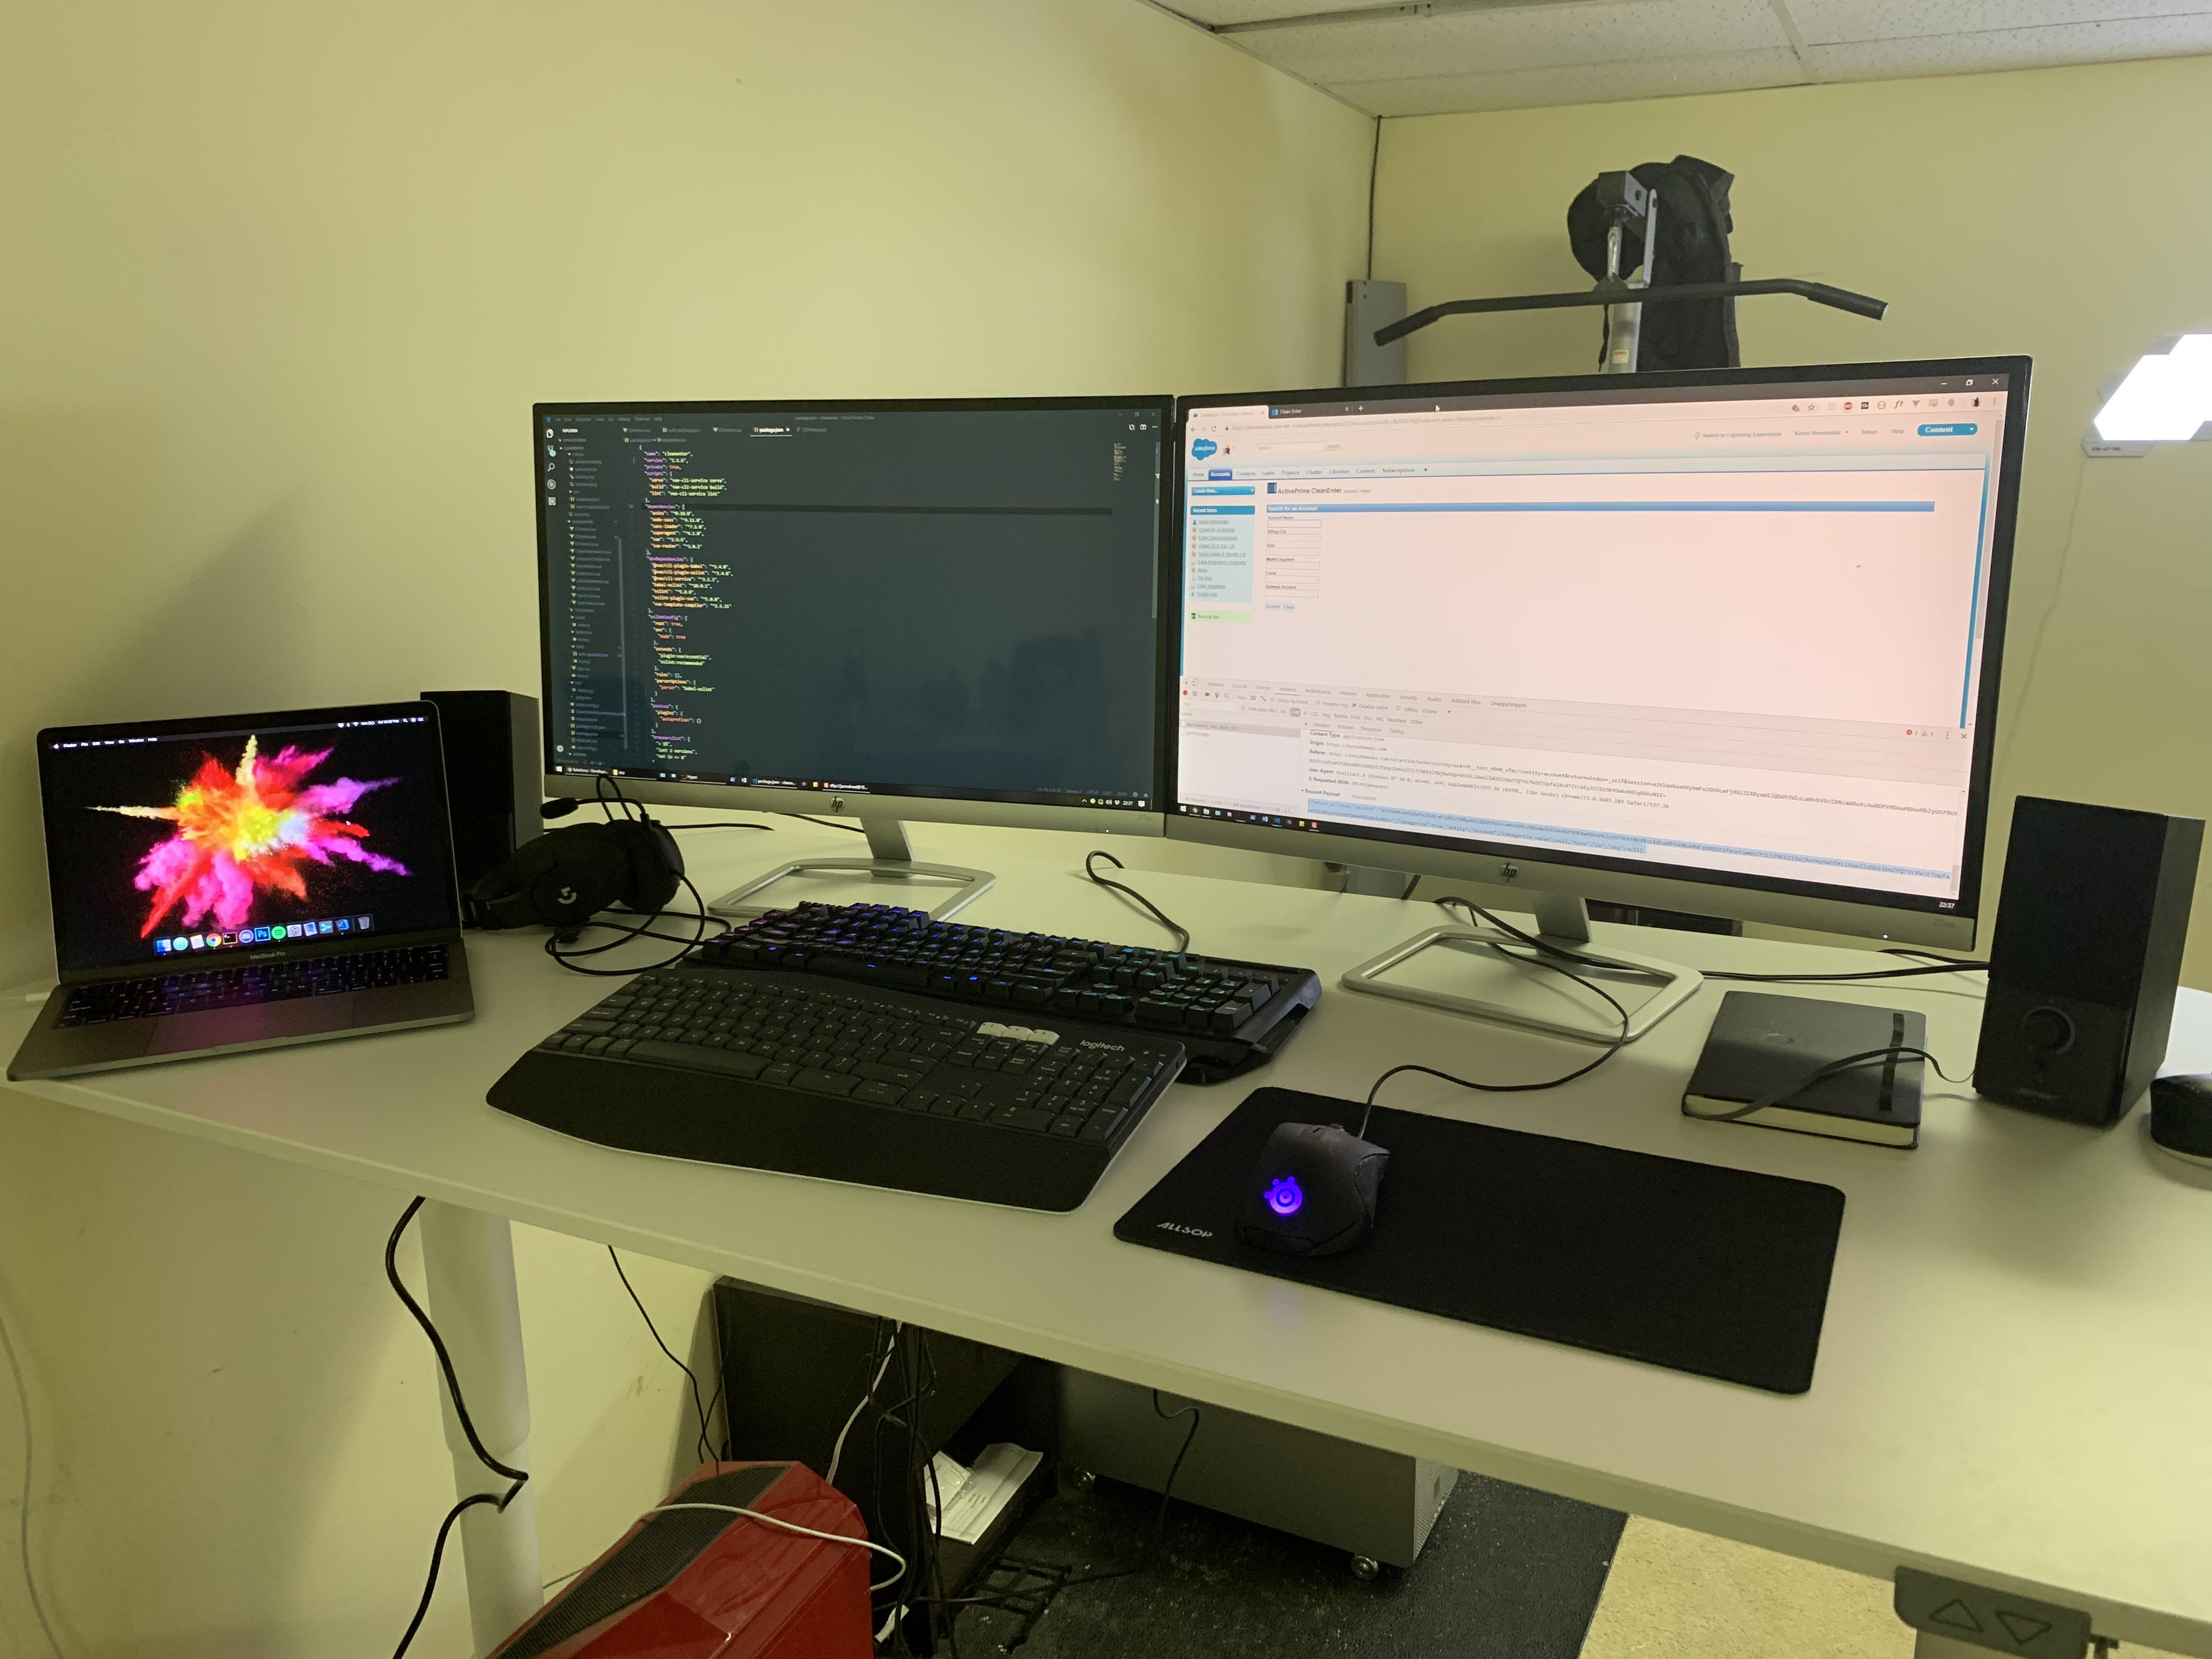Desk (Standing): (19, 667, 2212, 1659)
External Speakers (Generic): (1947, 796, 2163, 1112), (418, 678, 543, 885)
Headphones: (479, 817, 700, 936)
Keyboard (Ergonomic): (469, 971, 1172, 1223)
Keyboard (Gaming): (702, 885, 1350, 1060)
Laptop (OSX): (0, 680, 488, 1068)
Monitor (Laptop): (52, 701, 446, 983)
Mouse (Gaming): (1191, 1105, 1409, 1246)
Mousepad (Gaming): (1151, 1086, 1836, 1398)
Notebook: (1689, 985, 1946, 1150)
